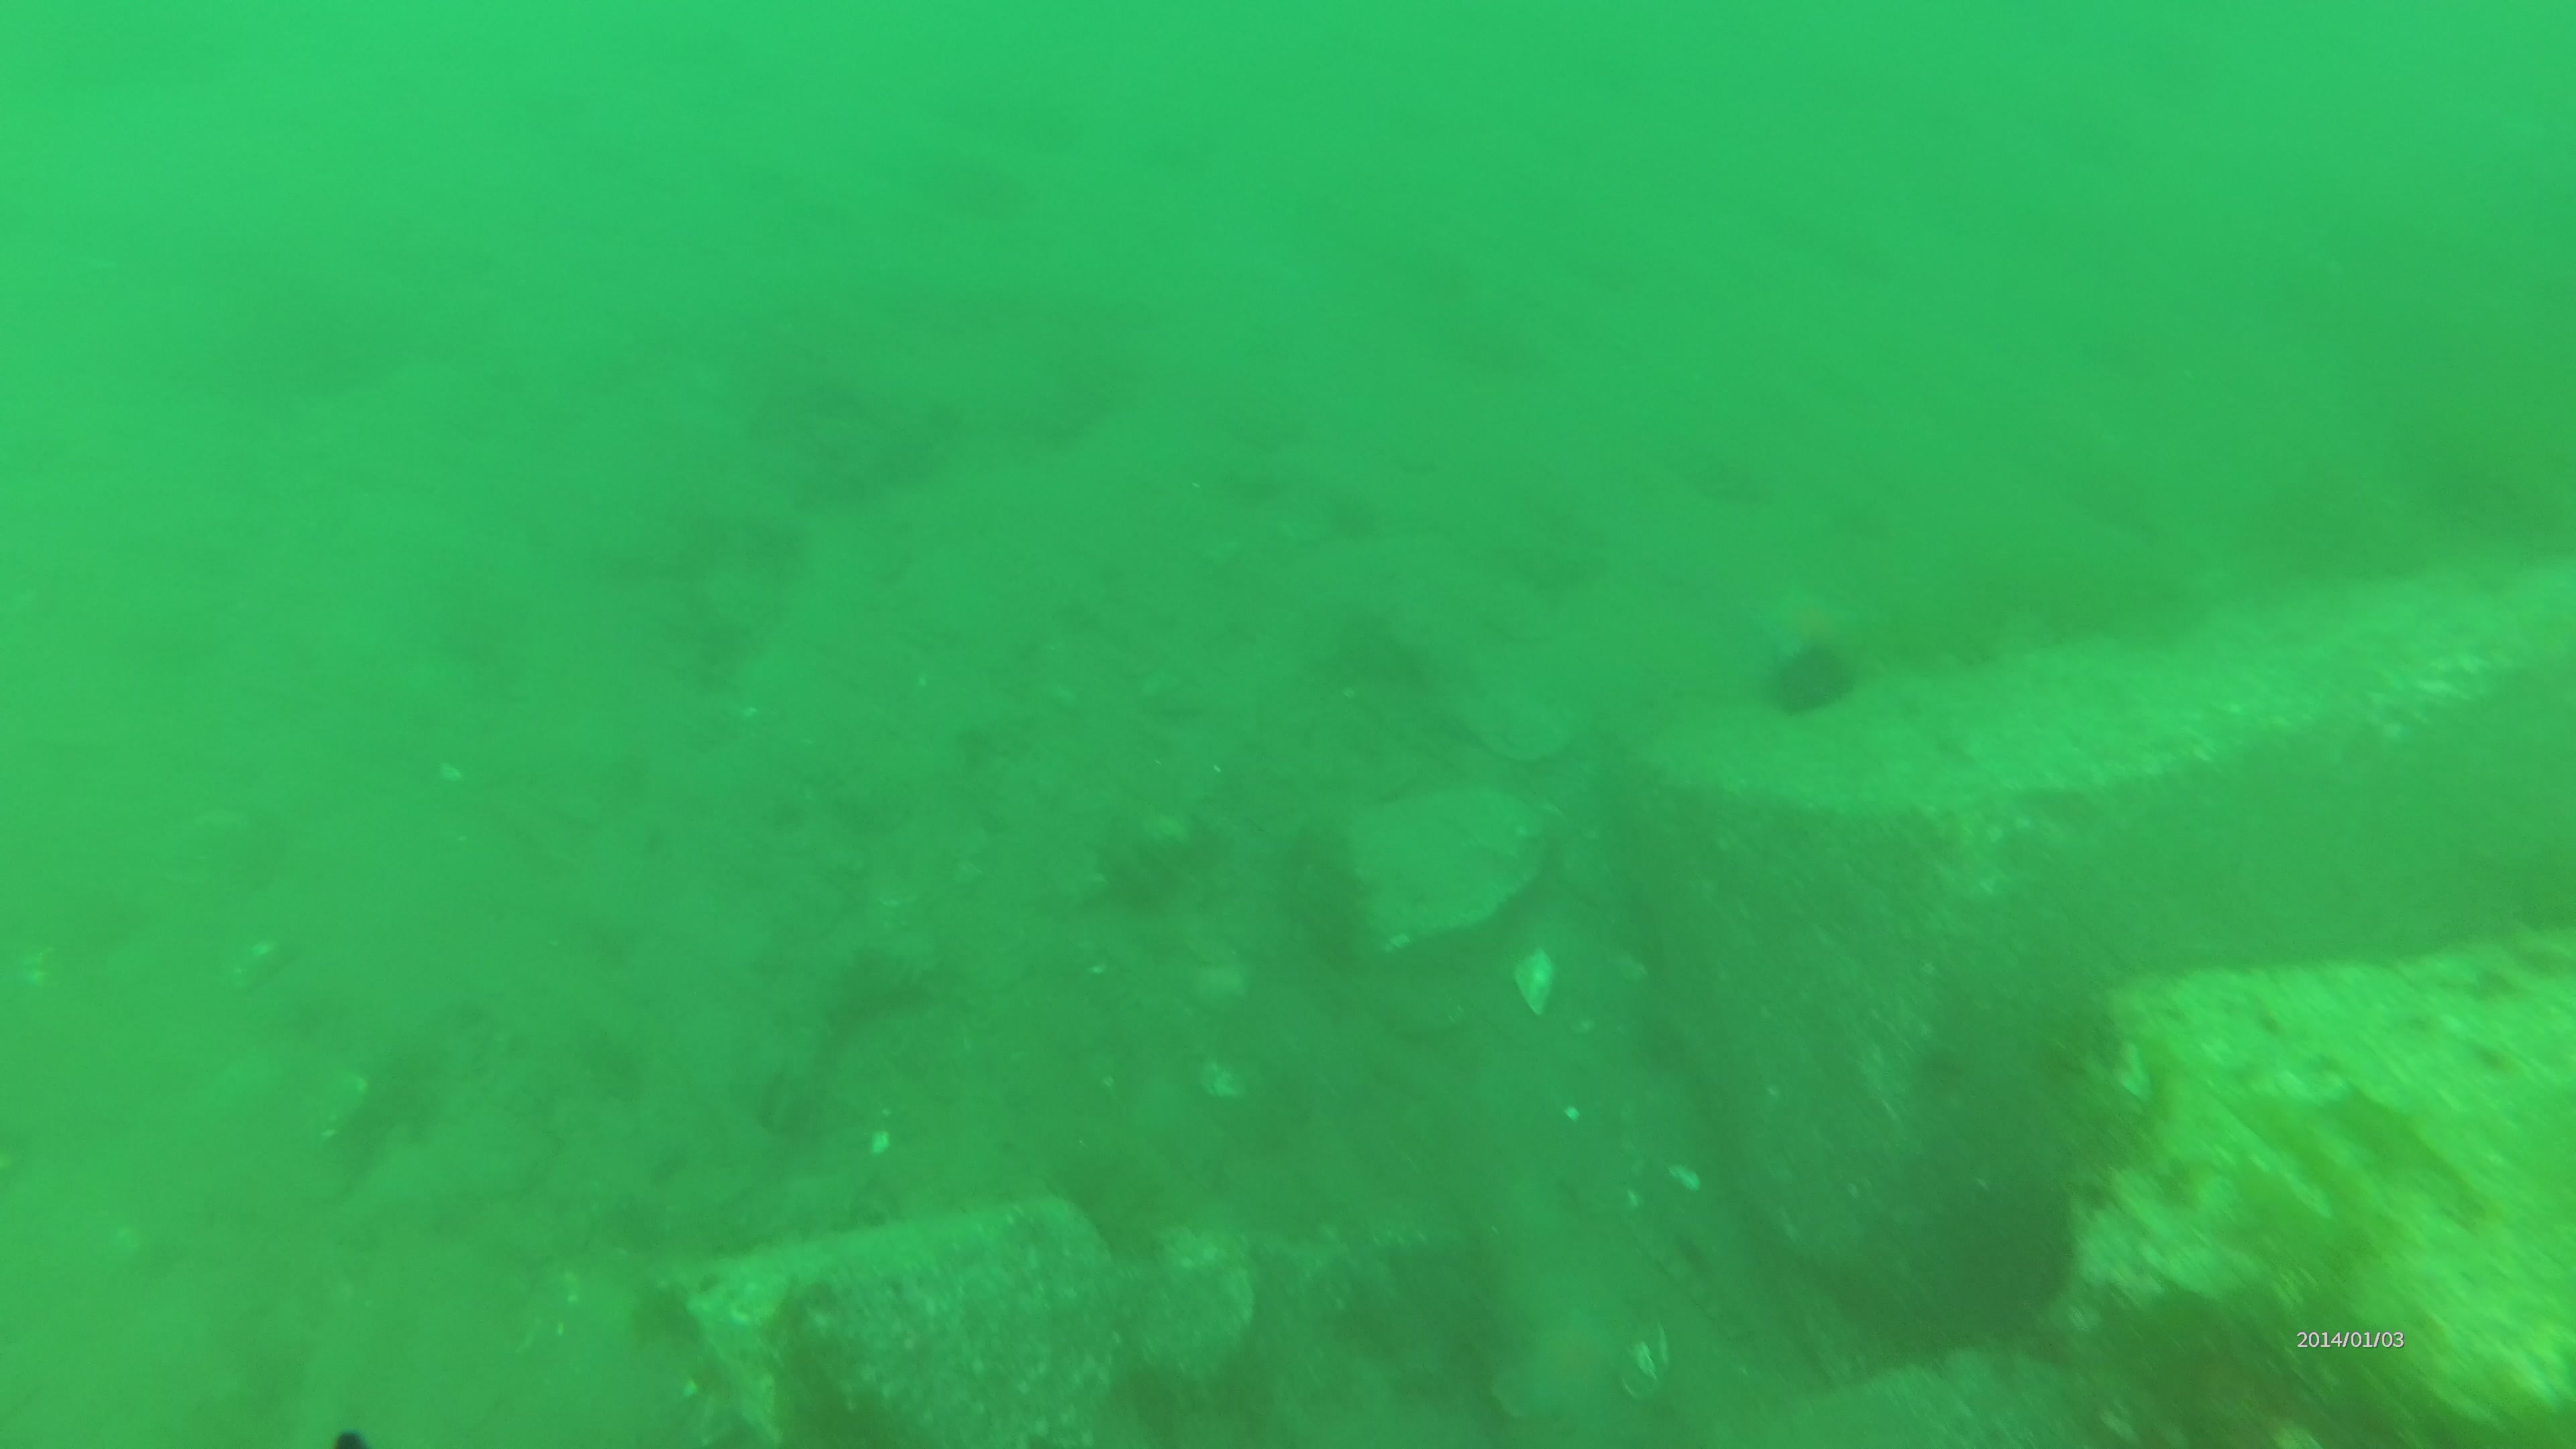echinus: (1773, 644, 1859, 711)
starfish: (1760, 582, 1854, 658)
